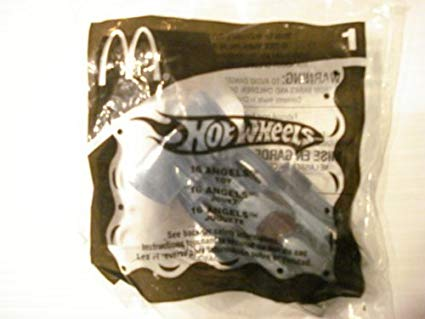mcdonalds: (96, 22, 161, 82)
